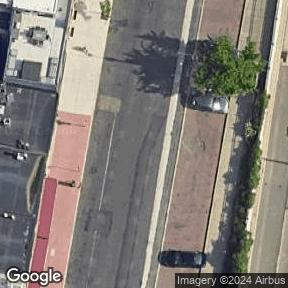vegetation: (193, 35, 268, 273)
